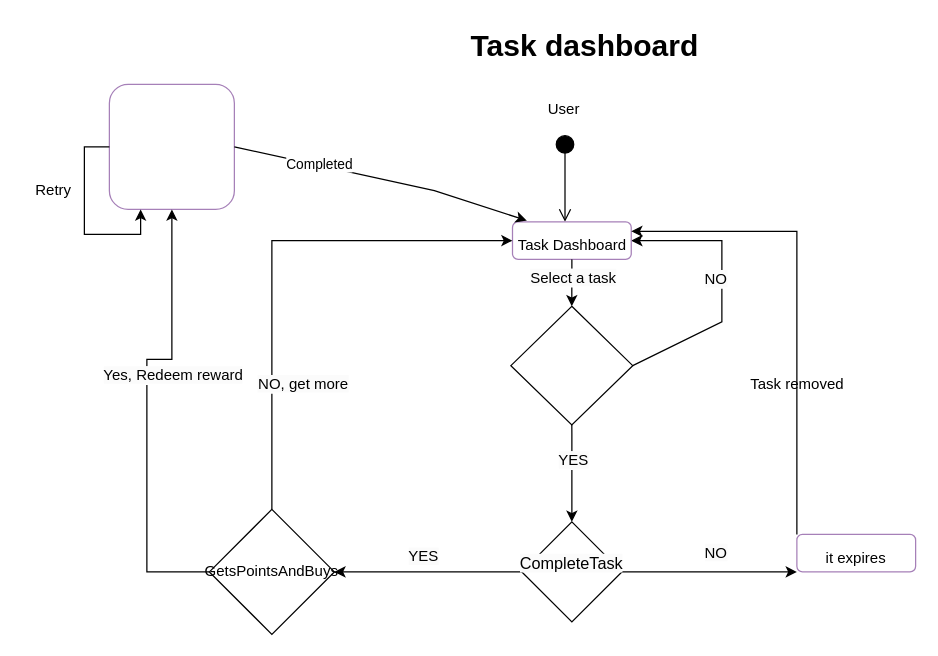
The diagram is 938 pixels wide and 656 high, and some of its shapes have lost their labels. Each missing label, with the centre of its shape:
"IsAsignedToTask" belongs at [571,365].
"Task gets added for admin to fulfill reward" belongs at [171,146].
